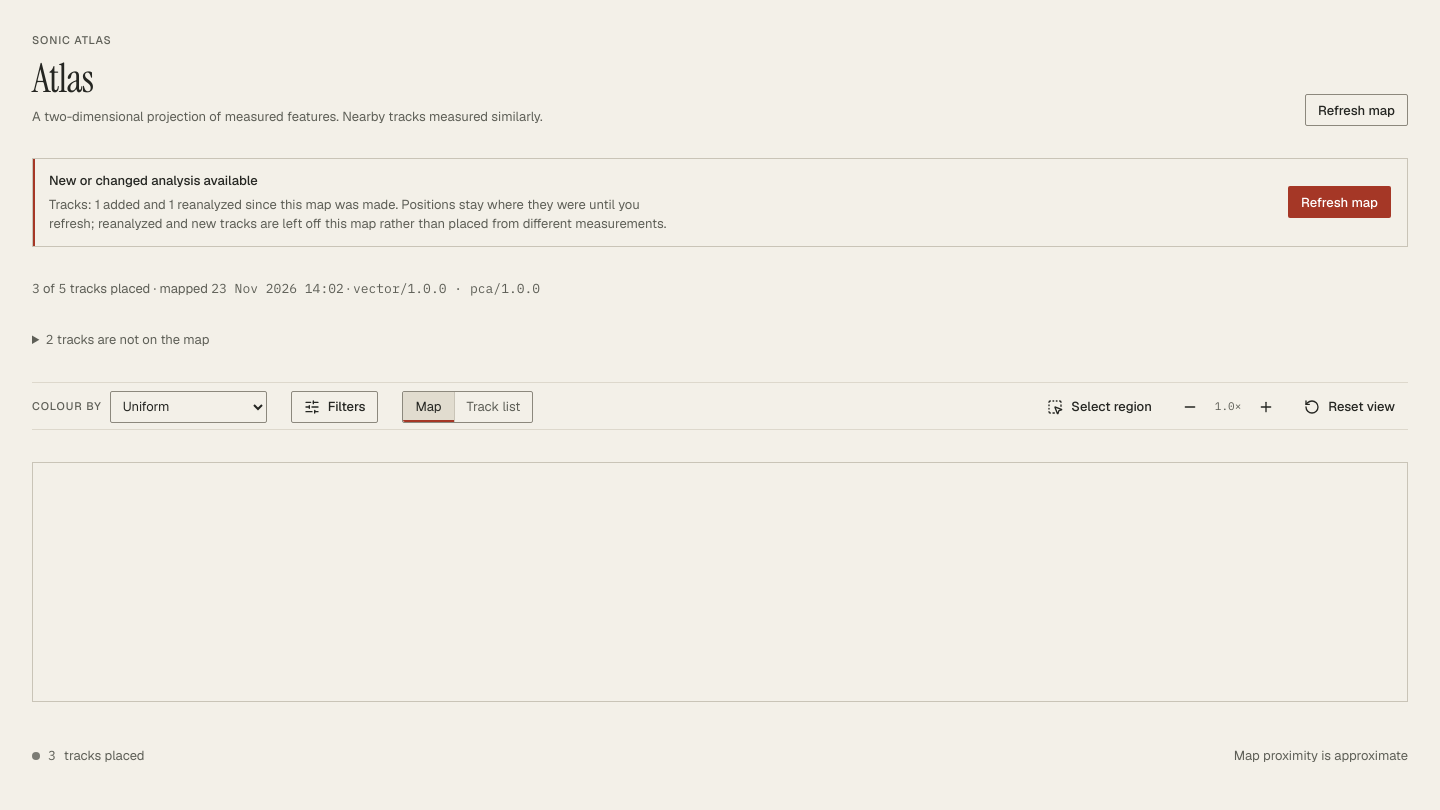
Scenario: AtlasPage › keeps a stale map, says what changed and refreshes on request
expect the text "New or changed analysis available" is shown: met, box [49, 172, 258, 189]
expect the text "Tracks: 1 added and 1 reanalyzed since this map was made." is shown: met, box [49, 196, 398, 212]
Click the button "Refresh map" in the row of "New or changed analysis available" at (1340, 202), box [1288, 186, 1391, 218]
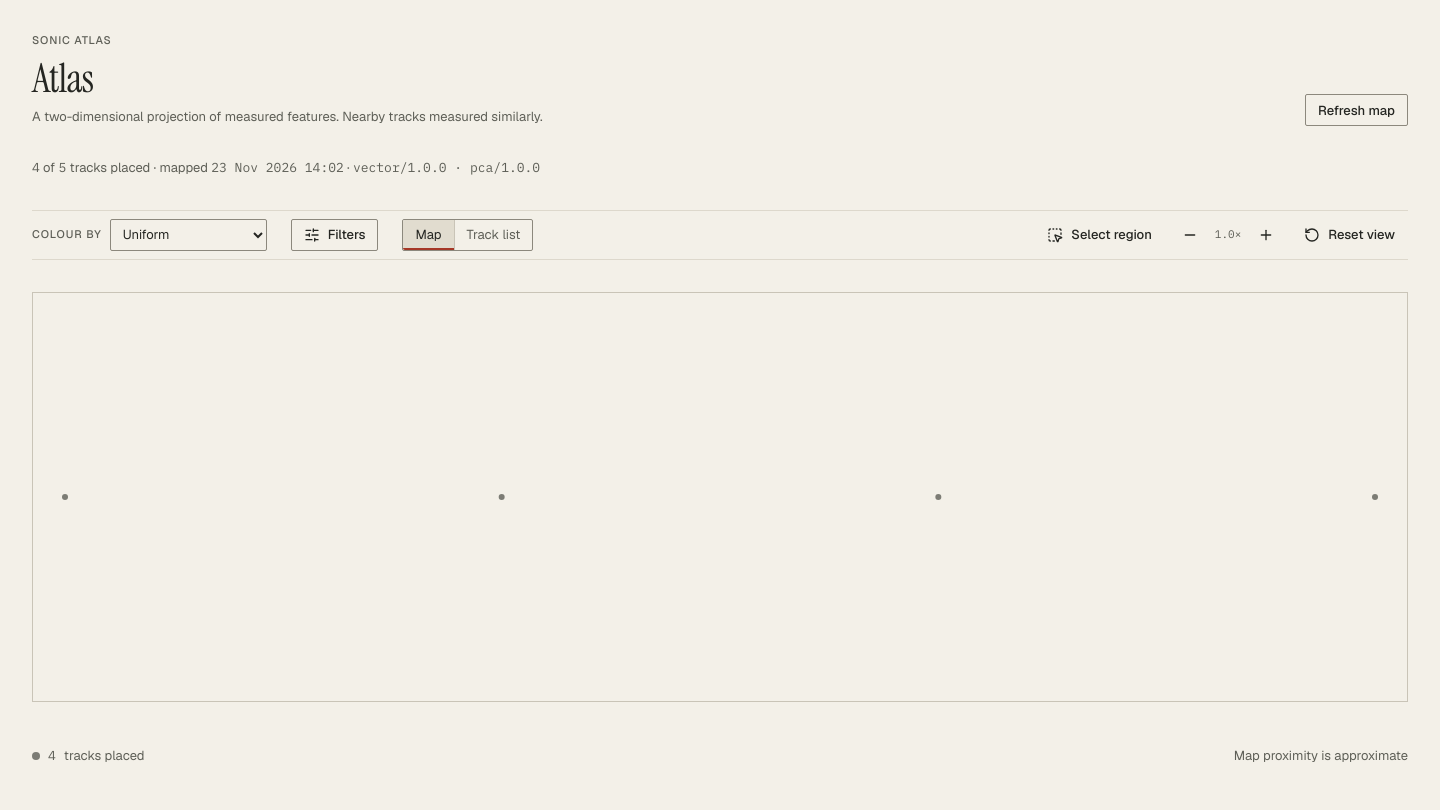
expect the text "New or changed analysis available" is gone: met
expect the element with class "sm-atlas-coverage" shows "4 of 5 tracks placed": met, box [32, 159, 540, 176]
